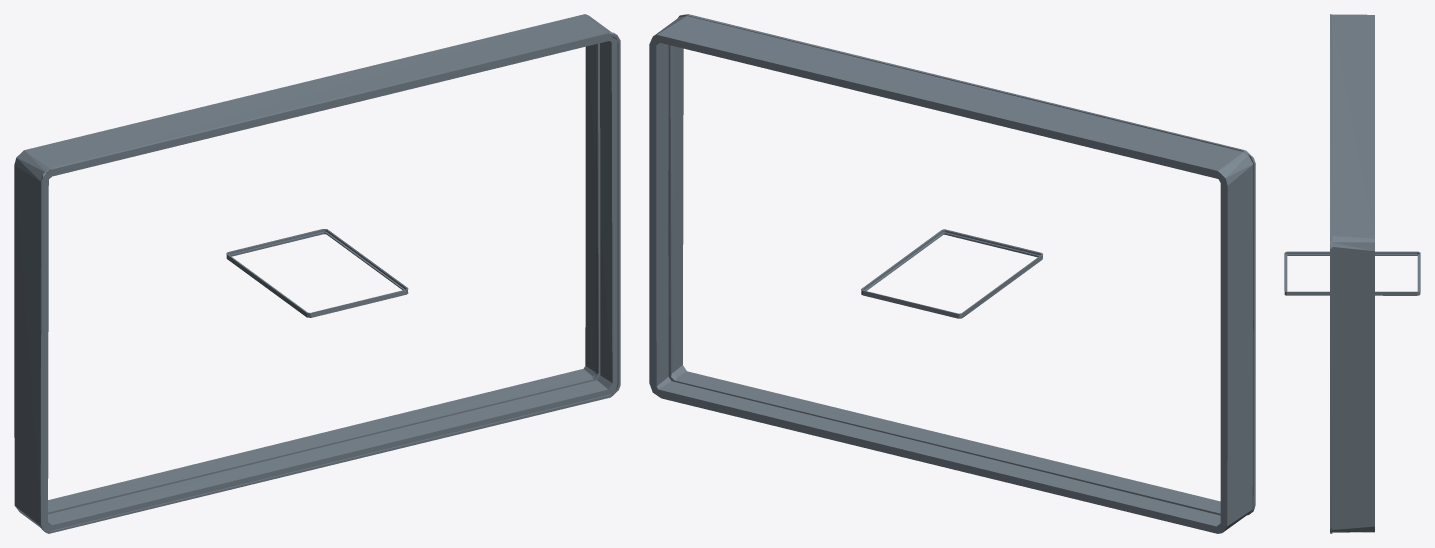
The model's file is contornos_demo.glb.
The picture shows the model from 3 angles, left to right: view 1: azimuth 30°, elevation 25°; view 2: azimuth 150°, elevation 25°; view 3: azimuth 270°, elevation 25°; orthographic projection. The views are drawn at different scales.
Parts seen in each view (by area): view 1: carcasa_contorno@tv, panel_contorno@tv, carcasa_contorno@tablet; view 2: carcasa_contorno@tv, panel_contorno@tv, carcasa_contorno@tablet; view 3: carcasa_contorno@tv, carcasa_contorno@tablet, panel_contorno@tablet.
Boxes of the visible parts, left/top/right/bottom form: carcasa_contorno@tv: left=14, top=14, right=620, bottom=533; panel_contorno@tv: left=48, top=43, right=600, bottom=514; carcasa_contorno@tablet: left=226, top=229, right=408, bottom=317; carcasa_contorno@tv: left=649, top=14, right=1255, bottom=533; panel_contorno@tv: left=668, top=45, right=1220, bottom=515; carcasa_contorno@tablet: left=861, top=229, right=1042, bottom=318; carcasa_contorno@tv: left=1330, top=14, right=1374, bottom=533; carcasa_contorno@tablet: left=1284, top=251, right=1420, bottom=295; panel_contorno@tablet: left=1285, top=254, right=1419, bottom=291.
Bounding box in the file's own units: 100 × 60.24 × 25.04.
